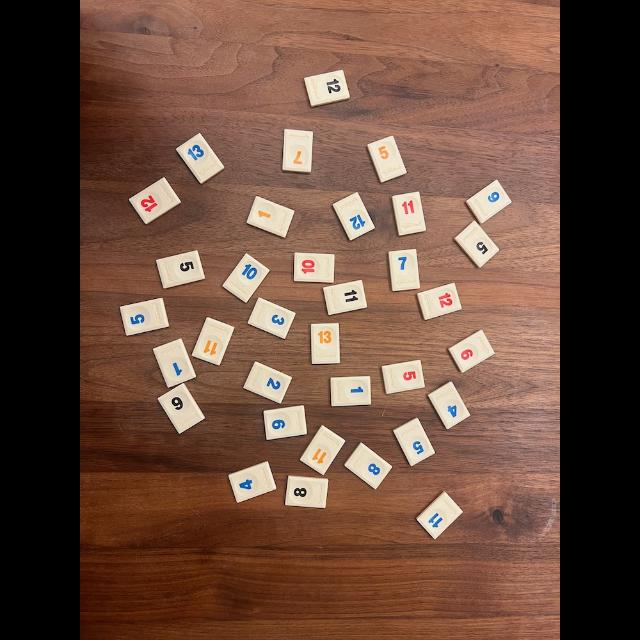black_11: (324, 280, 368, 315)
black_12: (304, 70, 350, 106)
black_5: (455, 221, 499, 268), (156, 250, 205, 289)
black_8: (285, 475, 329, 508)
black_9: (158, 382, 205, 434)
blue_1: (154, 339, 196, 388), (332, 376, 371, 406)
blue_10: (222, 254, 269, 302)
blue_11: (416, 491, 462, 539)
blue_12: (333, 192, 375, 240)
blue_13: (176, 134, 224, 184)
blue_2: (245, 361, 291, 404)
blue_3: (249, 298, 295, 339)
blue_4: (429, 381, 470, 429), (229, 461, 276, 502)
blue_5: (394, 418, 435, 465), (121, 298, 169, 335)
blue_7: (389, 249, 419, 291)
blue_8: (345, 442, 392, 489)
blue_9: (466, 180, 511, 224), (264, 405, 308, 440)
orange_1: (246, 196, 294, 236)
orange_11: (300, 425, 345, 475), (191, 318, 234, 365)
orange_13: (311, 324, 339, 364)
orange_5: (368, 136, 406, 182)
orange_7: (282, 129, 312, 172)
red_10: (294, 253, 334, 282)
red_11: (392, 191, 426, 236)
red_12: (129, 178, 181, 224), (418, 282, 461, 320)
red_5: (382, 360, 425, 394)
red_9: (449, 330, 495, 372)
